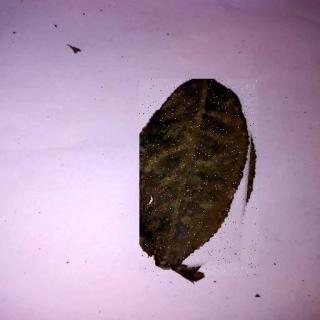Anthracnose: (141, 80, 260, 278)
